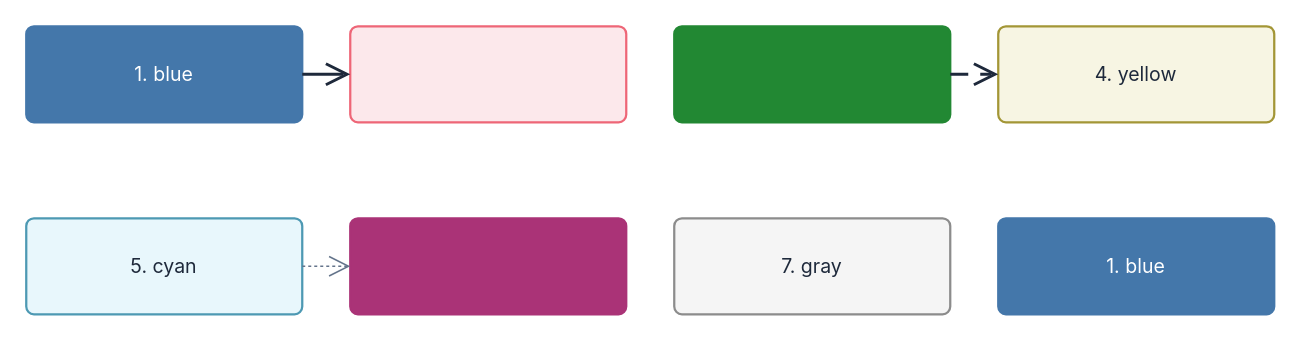
The diagram is 1302 pixels wide and 342 high, and some of its shapes have lost their labels. The centre of each missing label's shape, as x and y in pixels:
"2. red" goes at point (487, 73).
"3. green" goes at point (811, 73).
"6. purple" goes at point (487, 265).
